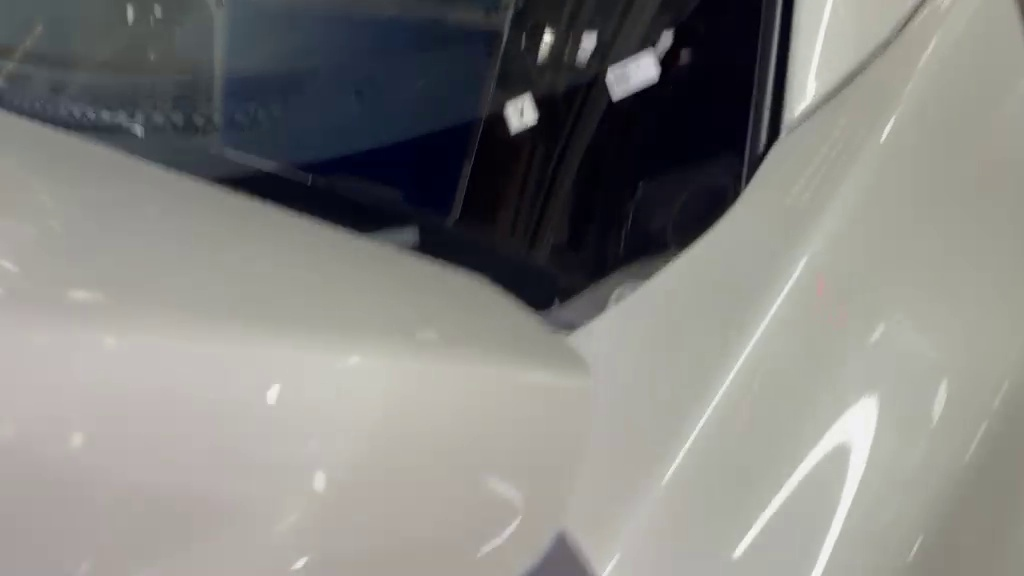hinge: (328, 202, 450, 272)
